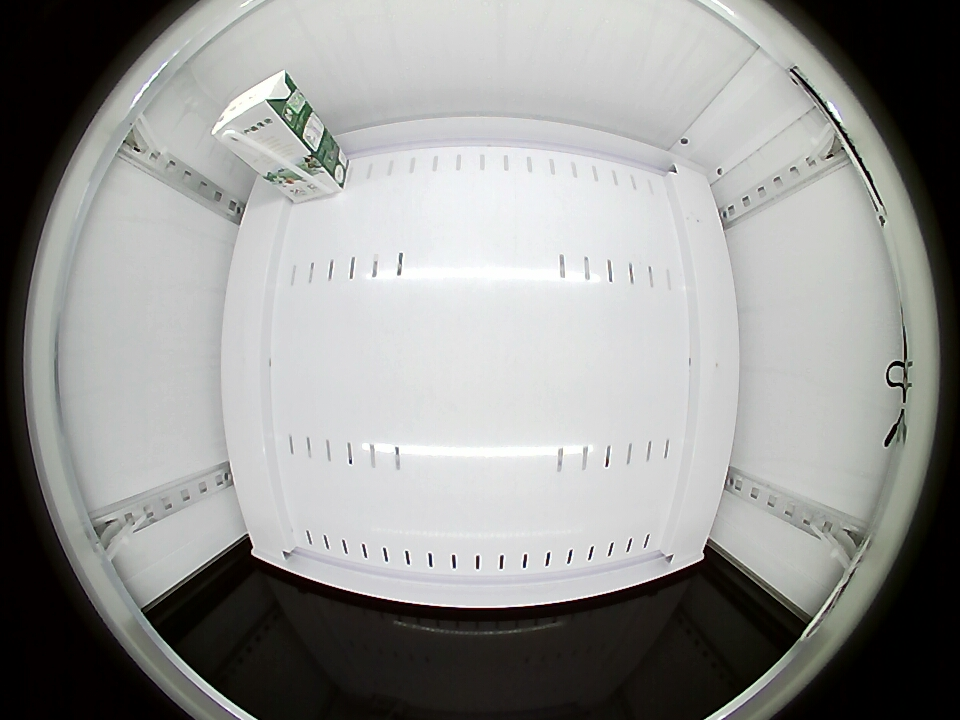jindian: (211, 70, 305, 158)
